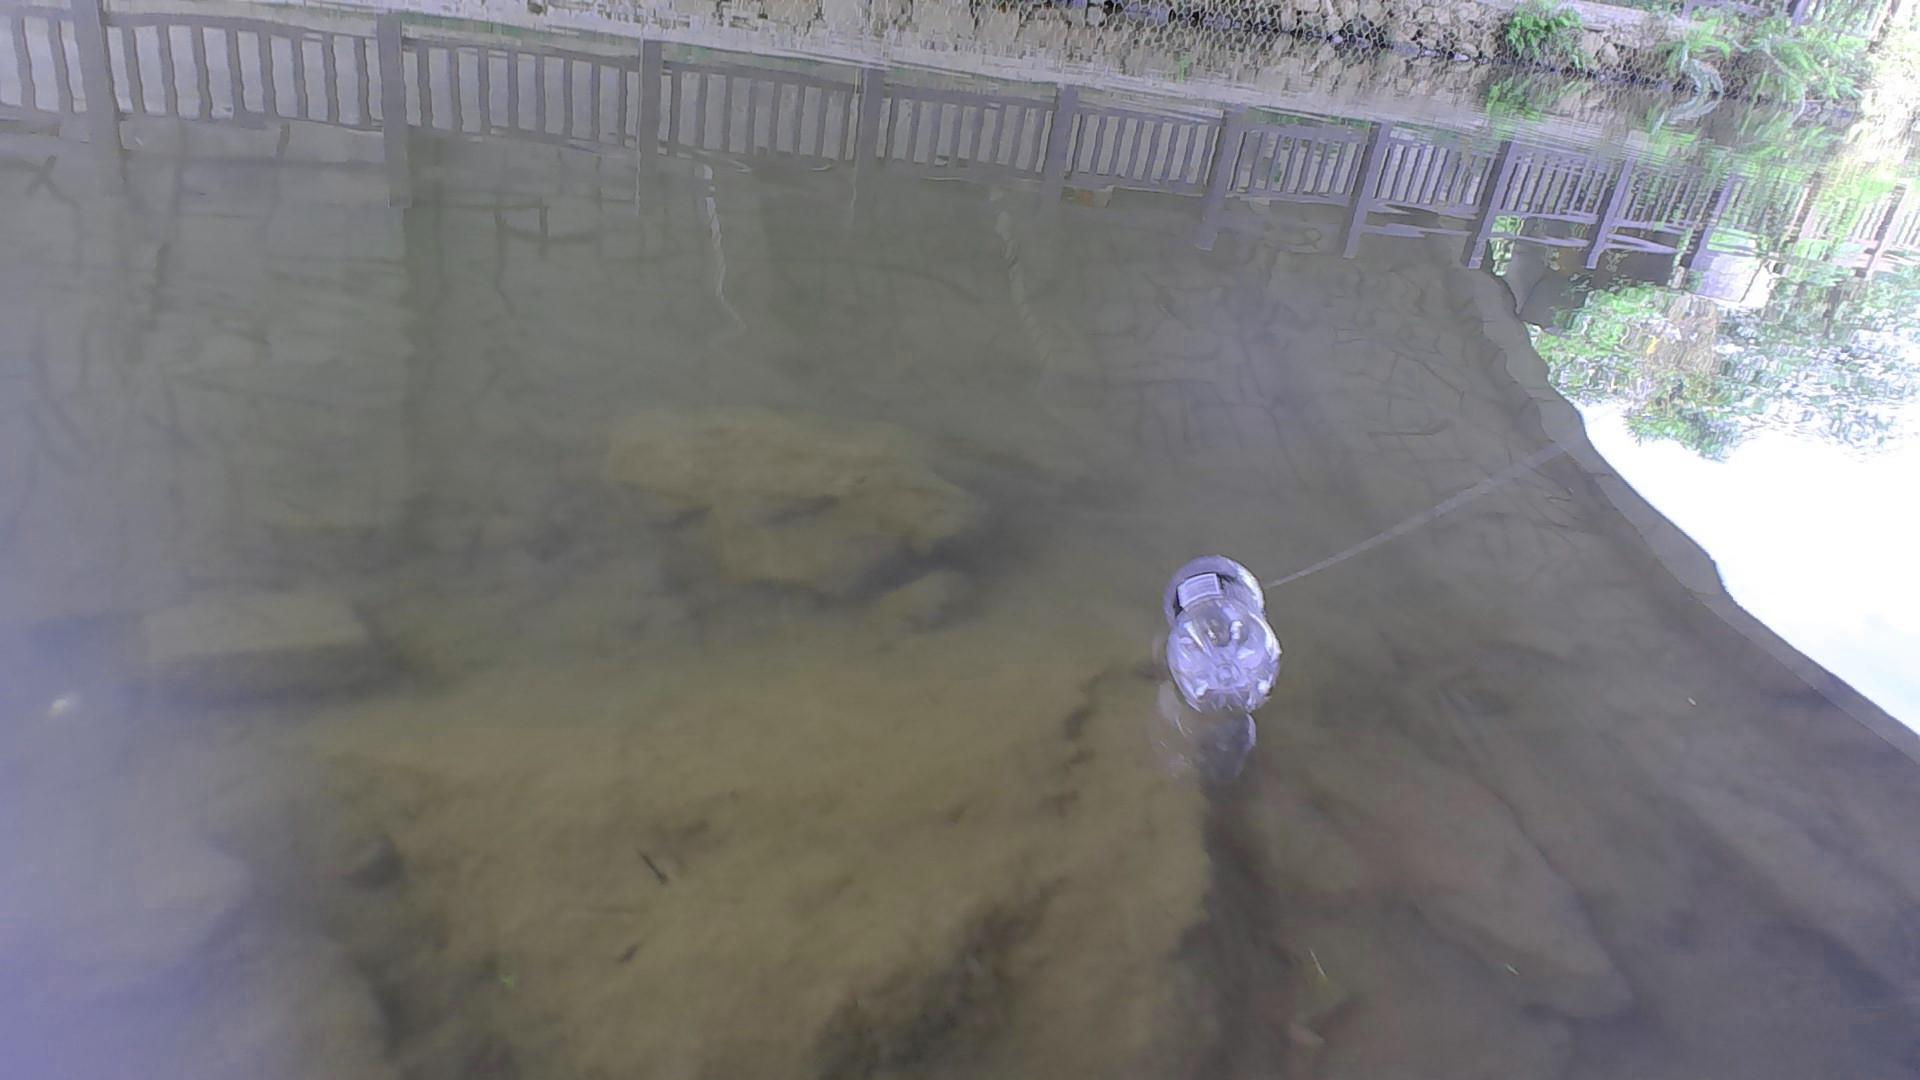Plastic: (1158, 546, 1286, 715)
